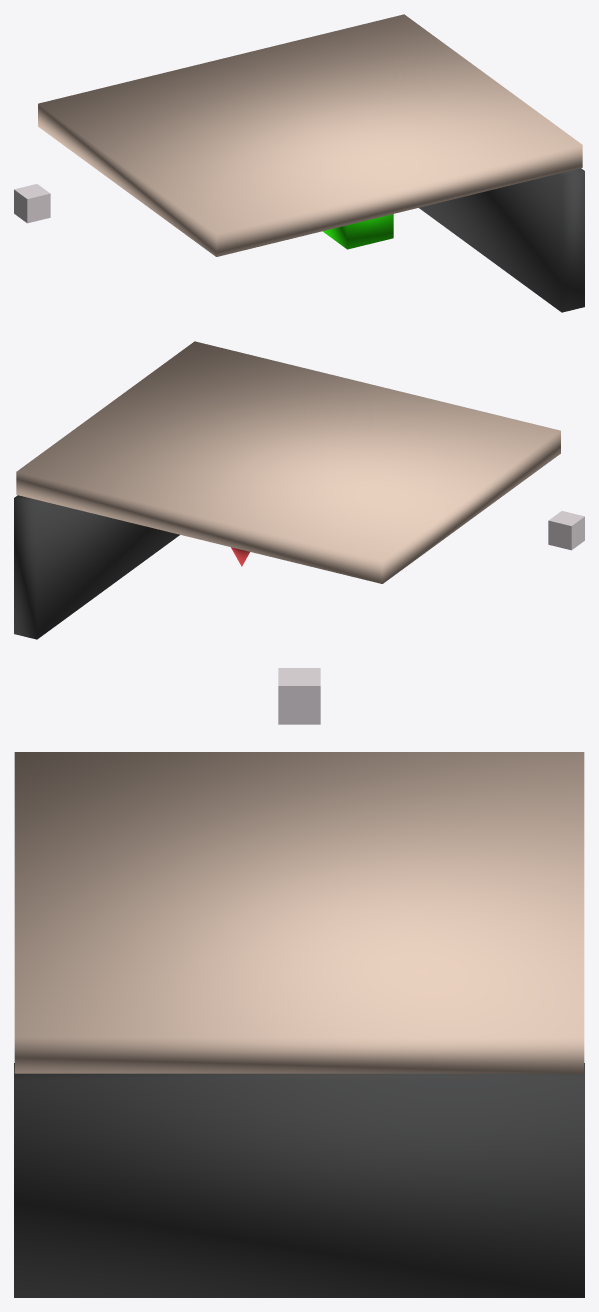
3 renders of one model, top to bottom at view 1: azimuth 30°, elevation 25°; view 2: azimuth 150°, elevation 25°; view 3: azimuth 270°, elevation 25°, orthographic. The views are drawn at different scales.
Parts seen in each view (by area): view 1: Cube.001, Cube.002, Cube.001.000, Cube_Cube.003; view 2: Cube.001, Cube.002, Cube_Cube.003; view 3: Cube.001, Cube.002, Cube_Cube.003.
Boxes of the visible parts, x1,y1,x2,y2 form: Cube.001: (38, 14, 582, 256); Cube.002: (419, 168, 584, 312); Cube.001.000: (323, 214, 393, 249); Cube_Cube.003: (14, 184, 50, 223); Cube.001: (16, 341, 560, 583); Cube.002: (14, 495, 179, 639); Cube_Cube.003: (548, 511, 584, 550); Cube.001: (14, 752, 584, 1073); Cube.002: (14, 1063, 584, 1297); Cube_Cube.003: (278, 668, 320, 724).
Bounding box in the file's own units: 4103 × 1347 × 2678.
